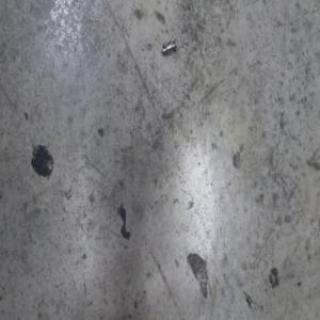Bolttrack_idkeyframe: (160, 37, 177, 56)
